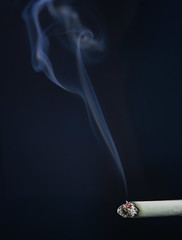cigarette: (114, 197, 182, 221)
